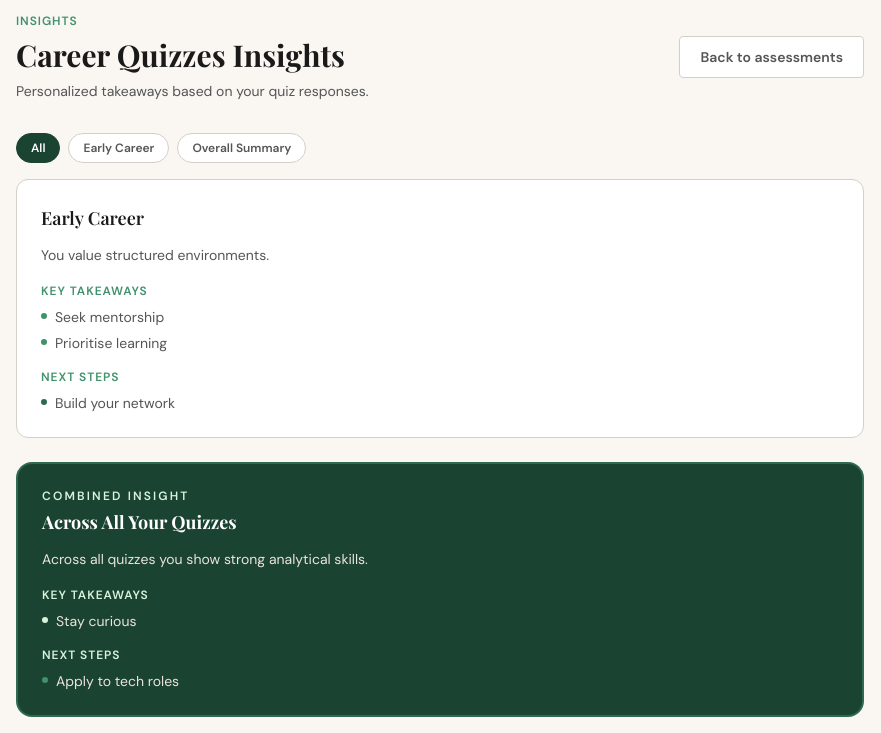
it: QuizInsights - careerQuizzes group › filters to specific insight when pill clicked
What coordinates should you click on to do the following:
click the button "Early Career"
I would click on:
 (119, 148)
Its box is [68,133,169,163].
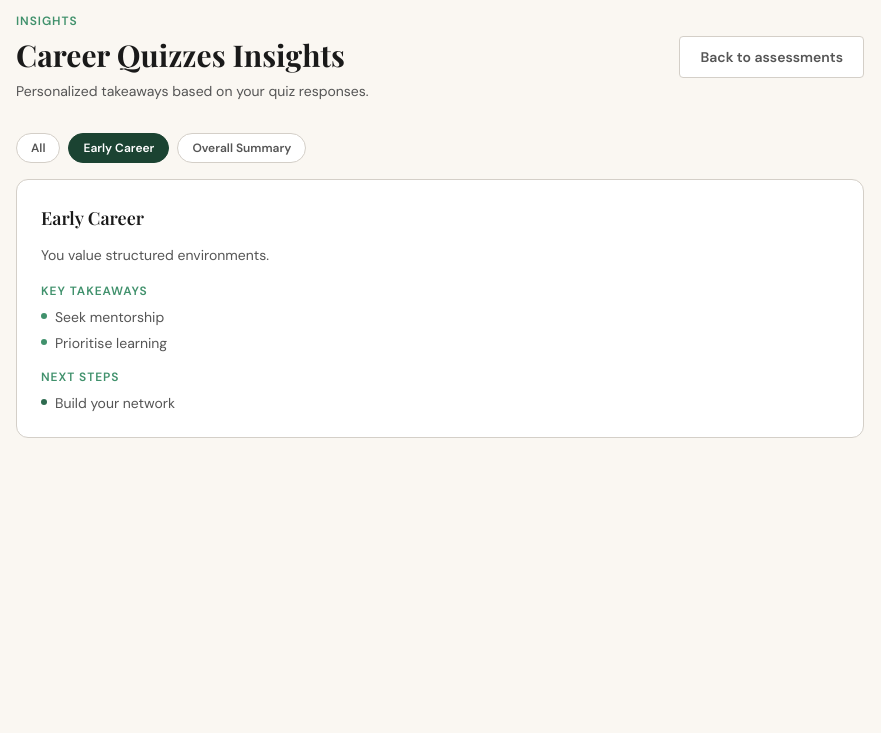
Expected: the text "Across all quizzes you show strong analytical skills." is gone
